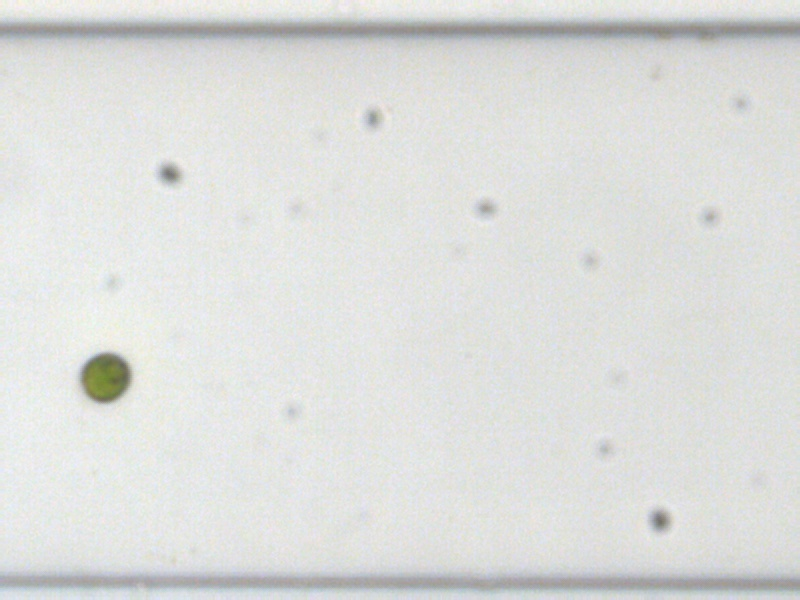Platymonas: (77, 348, 134, 403)
